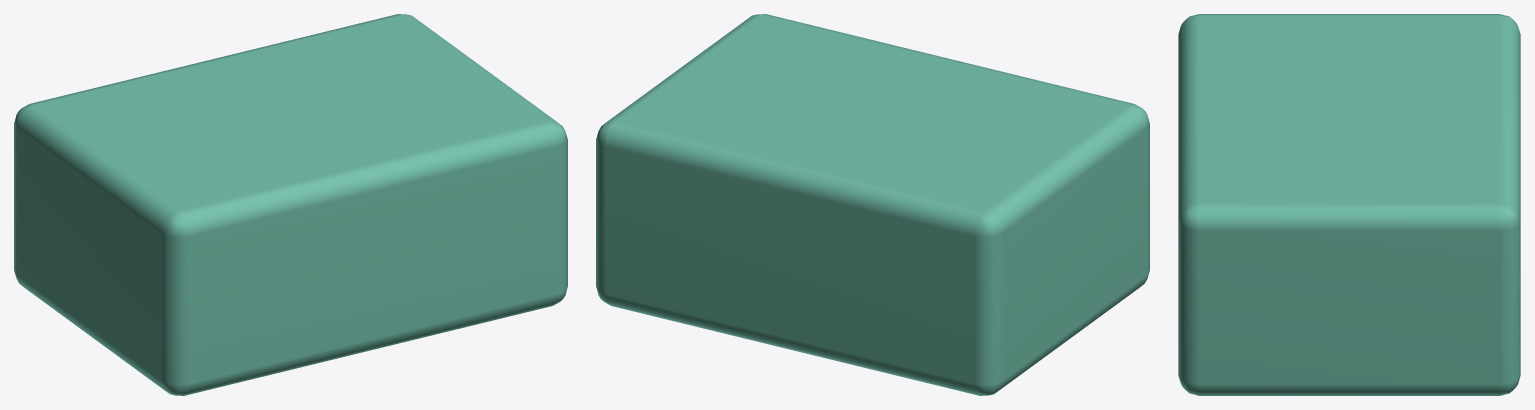
The model's file is official_rostrum.glb.
3 renders of one model, left to right at view 1: azimuth 30°, elevation 25°; view 2: azimuth 150°, elevation 25°; view 3: azimuth 270°, elevation 25°, orthographic. The views are drawn at different scales.
Parts seen in each view (by area): view 1: FIT_official_rostrum_NEW_V2; view 2: FIT_official_rostrum_NEW_V2; view 3: FIT_official_rostrum_NEW_V2.
Boxes of the visible parts, bbox=[...] form: FIT_official_rostrum_NEW_V2: bbox=[14, 14, 567, 395]; FIT_official_rostrum_NEW_V2: bbox=[596, 14, 1149, 395]; FIT_official_rostrum_NEW_V2: bbox=[1178, 14, 1520, 395].
Size of the model in its own units: 1.84 by 0.8 by 1.3.
